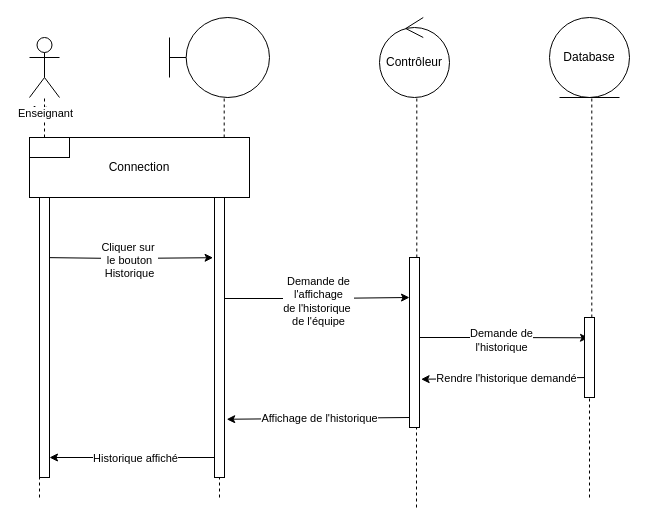
Image size: 647x526. Some labels were removed from this diagram. Here are the shapes that lost their labels. From the top down, the box of each, then its label:
(168, 16, 270, 98): Page toutes les équipes
(28, 136, 70, 158): REF
